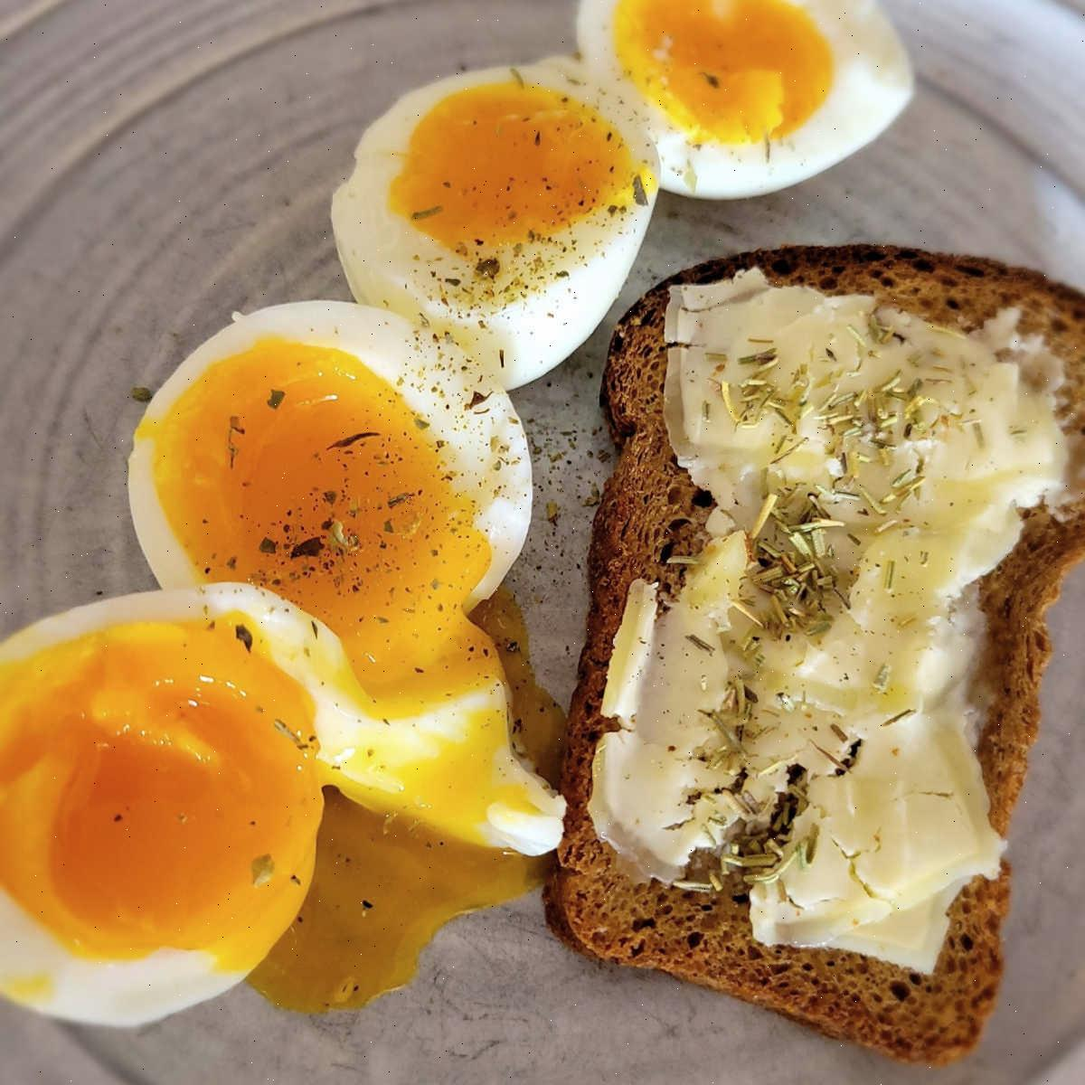eggs: (25, 0, 802, 996)
